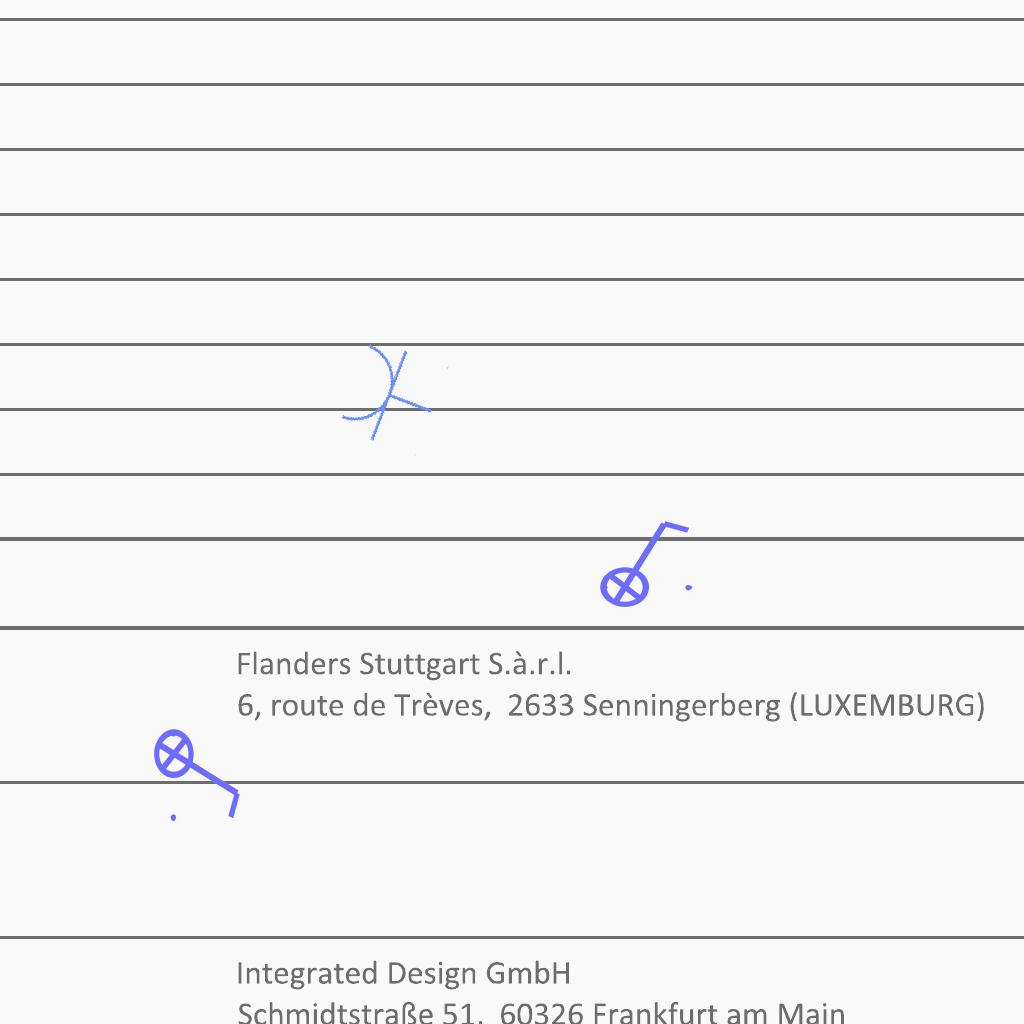Ausschalter_beleuchtet: (586, 513, 698, 609), (152, 715, 248, 827)
Schukosteckdose_einfach: (333, 333, 451, 458)
